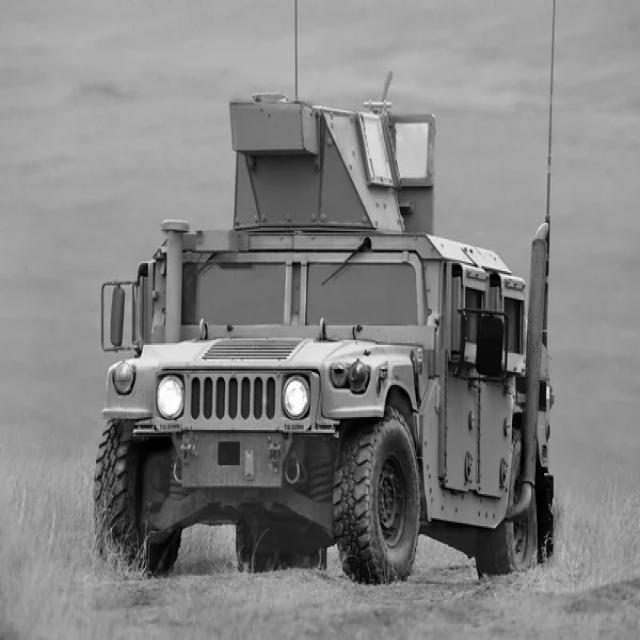Car: (94, 95, 556, 583)
